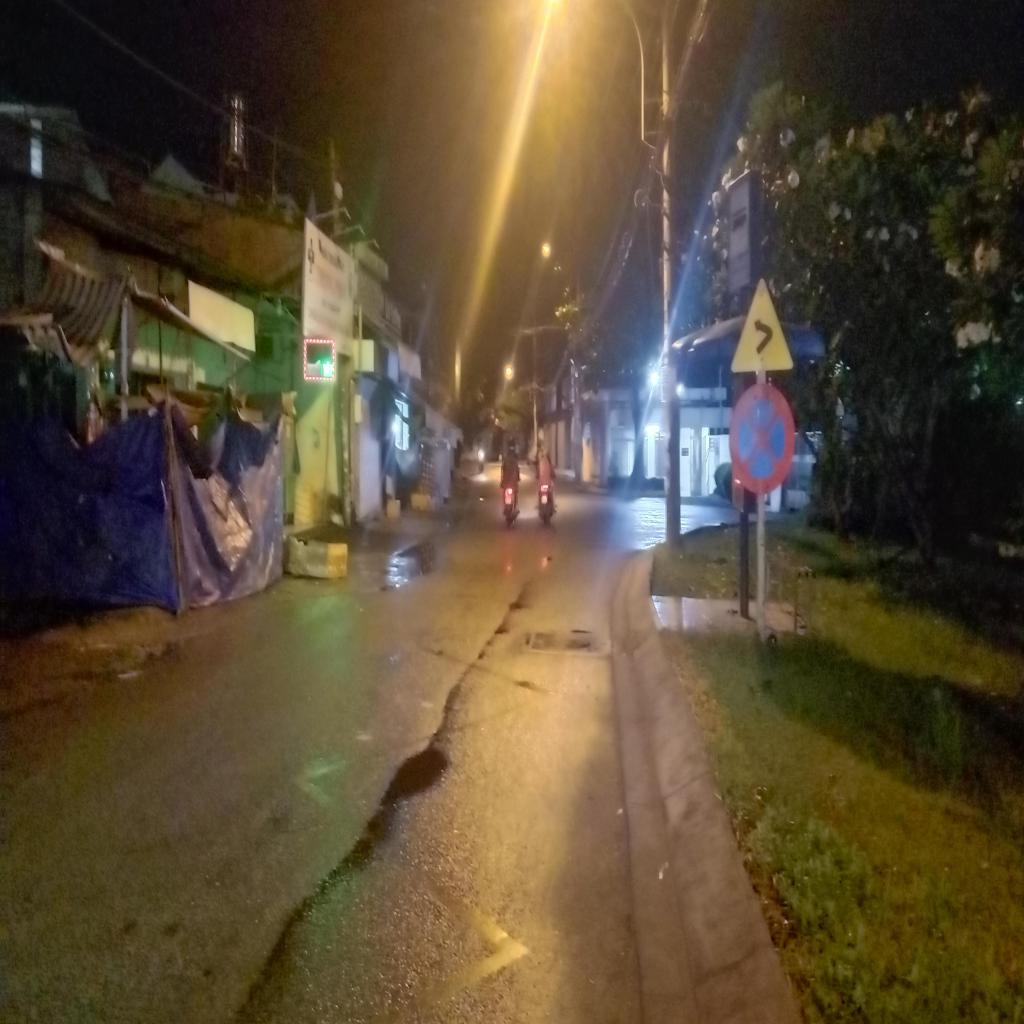cam_dung_xe_va_do_xe: (730, 384, 794, 496)
cho_ngoat_nguy_hiem_ben_trai: (732, 275, 794, 370)
